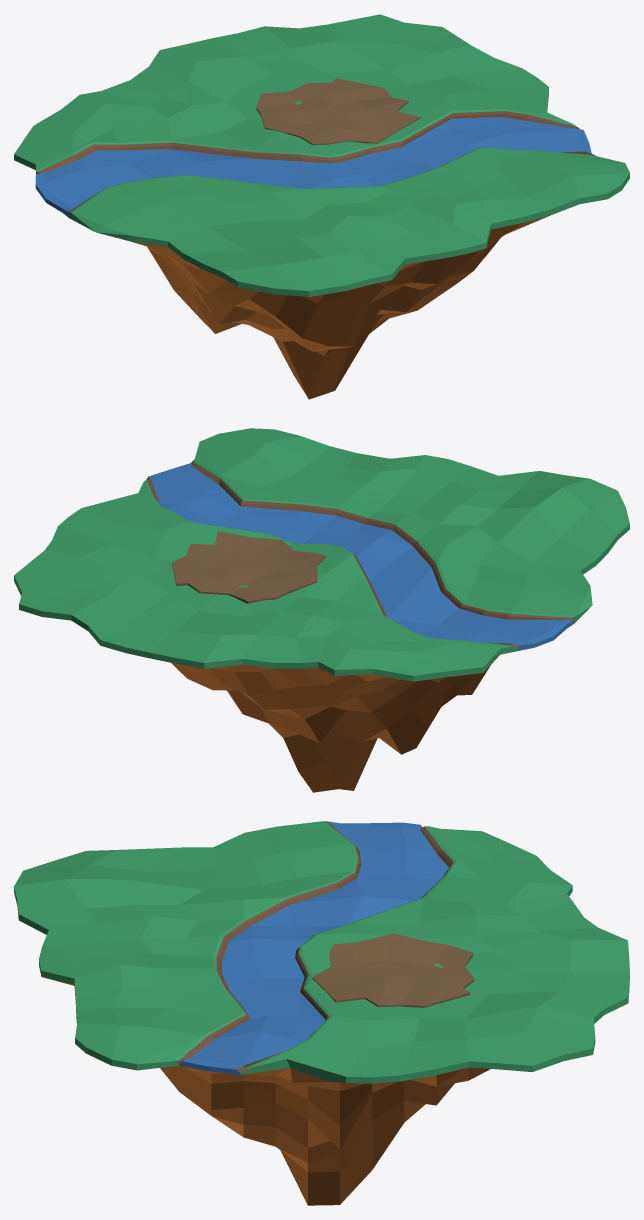
3 renders of one model, top to bottom at view 1: azimuth 30°, elevation 25°; view 2: azimuth 150°, elevation 25°; view 3: azimuth 270°, elevation 25°, orthographic. The views are drawn at different scales.
Parts seen in each view (by area): view 1: Floting Base_1, Floting Base_2; view 2: Floting Base_1, Floting Base_2; view 3: Floting Base_1, Floting Base_2.
Part boxes in pixels (bbox=[...]): Floting Base_1: bbox=[14, 14, 629, 399]; Floting Base_2: bbox=[256, 78, 420, 145]; Floting Base_1: bbox=[14, 428, 629, 792]; Floting Base_2: bbox=[172, 531, 326, 603]; Floting Base_1: bbox=[14, 821, 629, 1205]; Floting Base_2: bbox=[311, 933, 474, 1007].
Size of the model in its own units: 12 by 5.8 by 12.23.
1 material, 1 textured.
